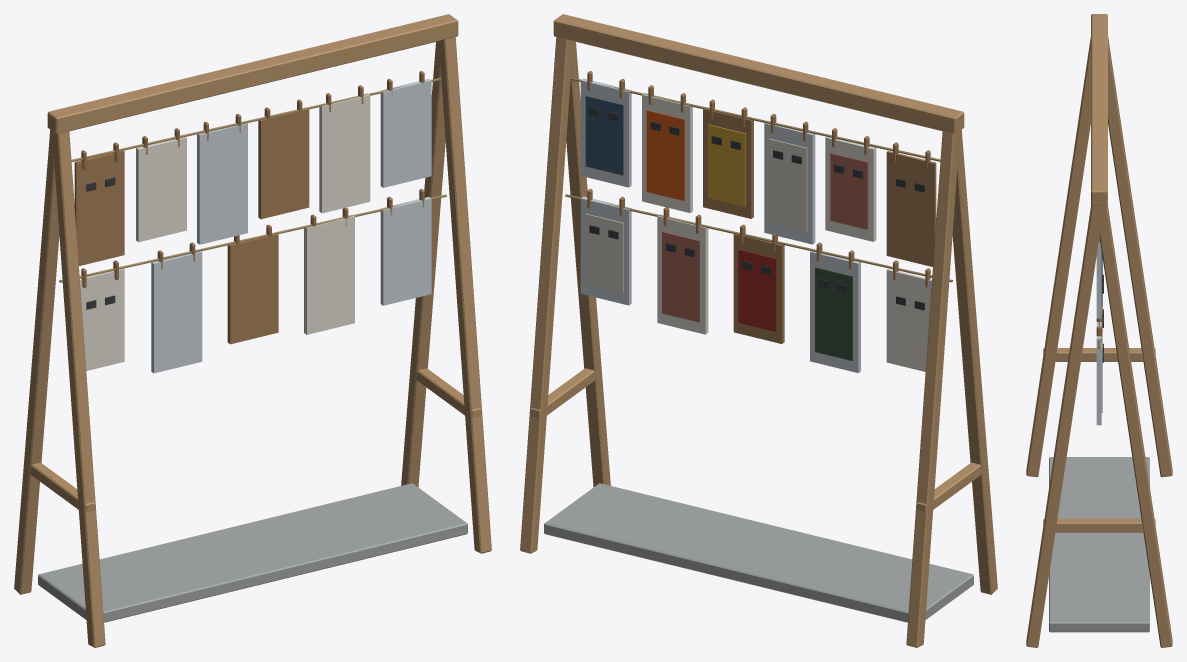
The model's file is prop_sh_drying_line.glb.
The picture shows the model from 3 angles, left to right: view 1: azimuth 30°, elevation 25°; view 2: azimuth 150°, elevation 25°; view 3: azimuth 270°, elevation 25°; orthographic projection. The views are drawn at different scales.
Visible parts, largest first — view 1: Body; view 2: Body; view 3: Body.
Part boxes in pixels (box(x1,y1,x2,y2)): Body: box(14, 14, 491, 647); Body: box(520, 14, 997, 647); Body: box(1026, 14, 1172, 647).
Size of what is drawn, in the model's own units: 1.5 by 1.8 by 0.5225.
